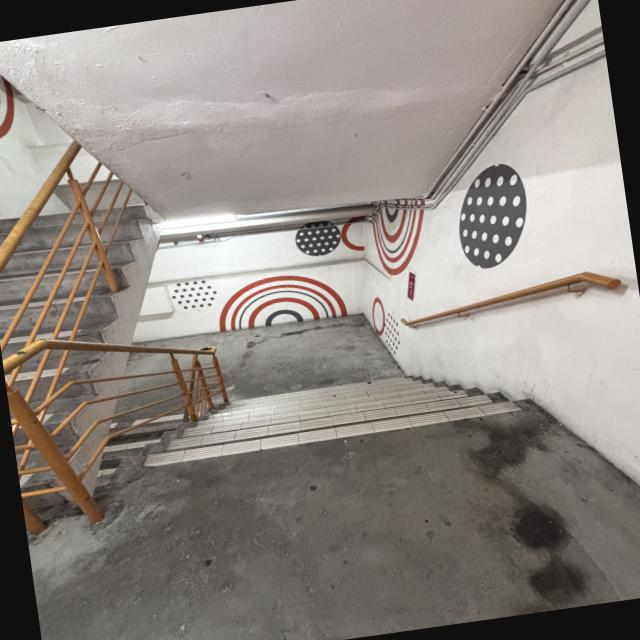Stairs: (0, 18, 640, 537)
